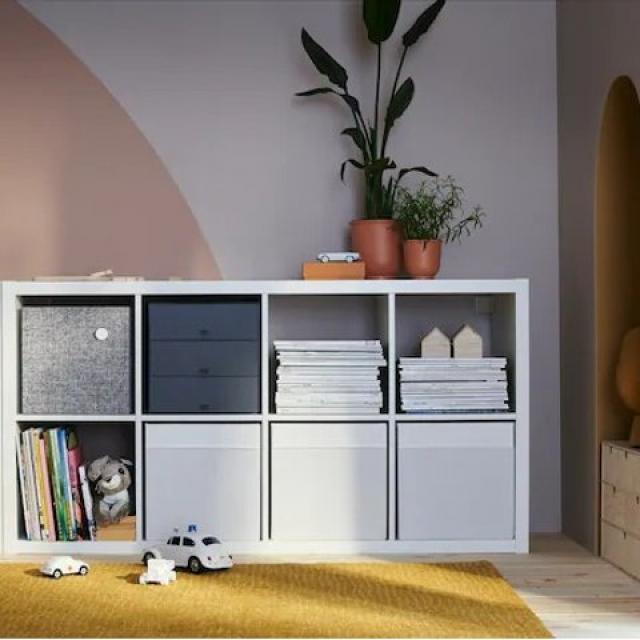Shelf: (0, 270, 548, 572)
